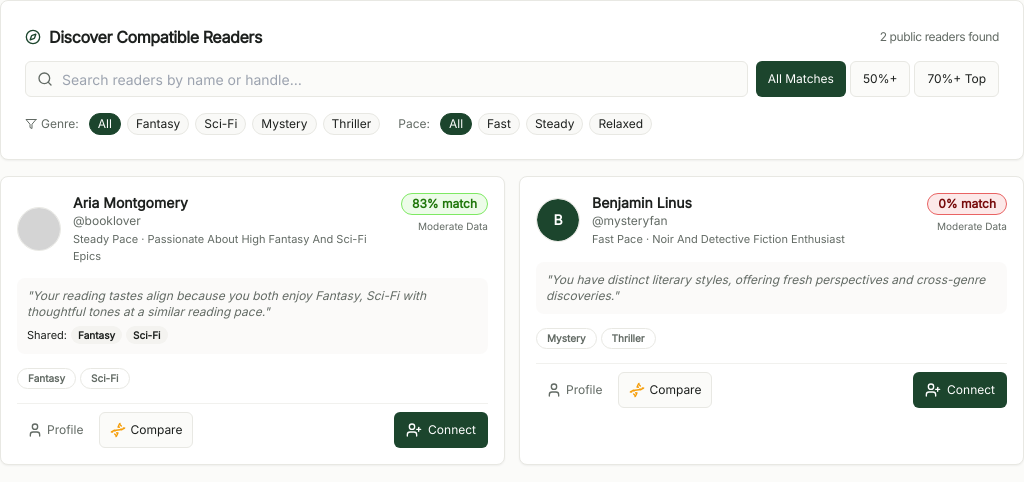
Test case: ReaderDiscoveryList › filters readers by reading pace
What coordinates should you click on to do the following:
click the button "fast"
I would click on:
 (499, 124)
Its box is [478,113,520,135].
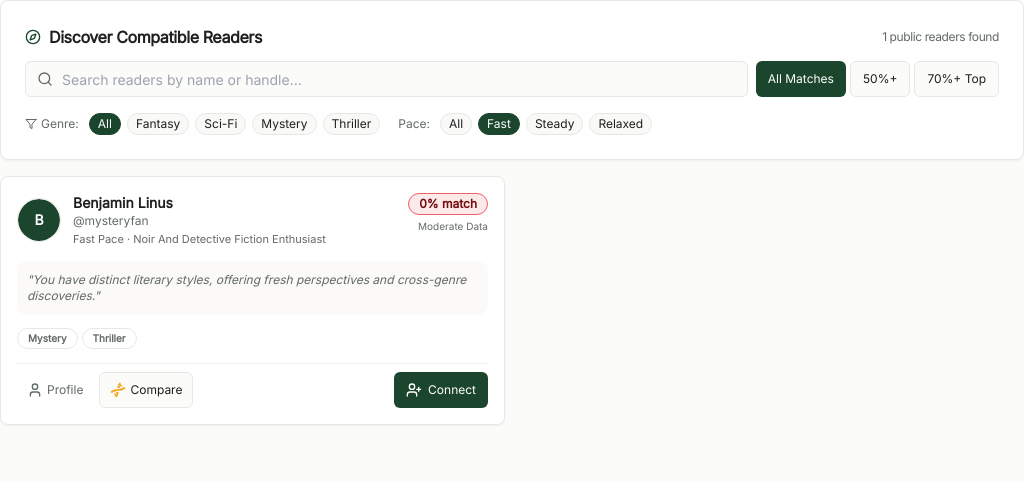
Expected: the text "Benjamin Linus" is shown, [73,194,173,211]
Now the text "Aria Montgomery" is gone
